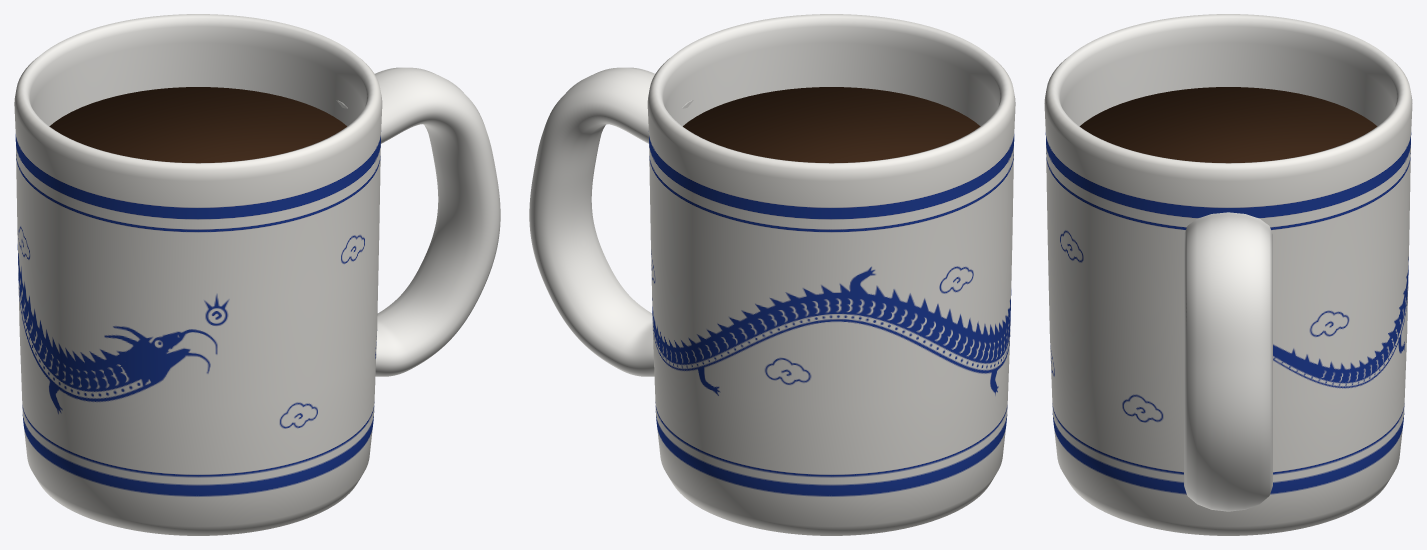
The model's file is mug.glb.
The picture shows the model from 3 angles, left to right: view 1: azimuth 30°, elevation 25°; view 2: azimuth 150°, elevation 25°; view 3: azimuth 270°, elevation 25°; orthographic projection.
Visible parts, largest first — view 1: Kupa_Govde, Kupa_Kulp, Kahve; view 2: Kupa_Govde, Kupa_Kulp, Kahve; view 3: Kupa_Govde, Kupa_Kulp, Kahve.
Boxes of the visible parts, bbox=[...] form: Kupa_Govde: bbox=[14, 14, 382, 535]; Kupa_Kulp: bbox=[336, 67, 500, 376]; Kahve: bbox=[49, 87, 346, 163]; Kupa_Govde: bbox=[647, 14, 1015, 535]; Kupa_Kulp: bbox=[529, 67, 693, 376]; Kahve: bbox=[683, 87, 980, 163]; Kupa_Govde: bbox=[1044, 14, 1412, 535]; Kupa_Kulp: bbox=[1184, 212, 1272, 511]; Kahve: bbox=[1079, 87, 1377, 163].
Size of the model in its own units: 0.1195 by 0.0962 by 0.0842.
Materials: 3 (1 with a texture image).
